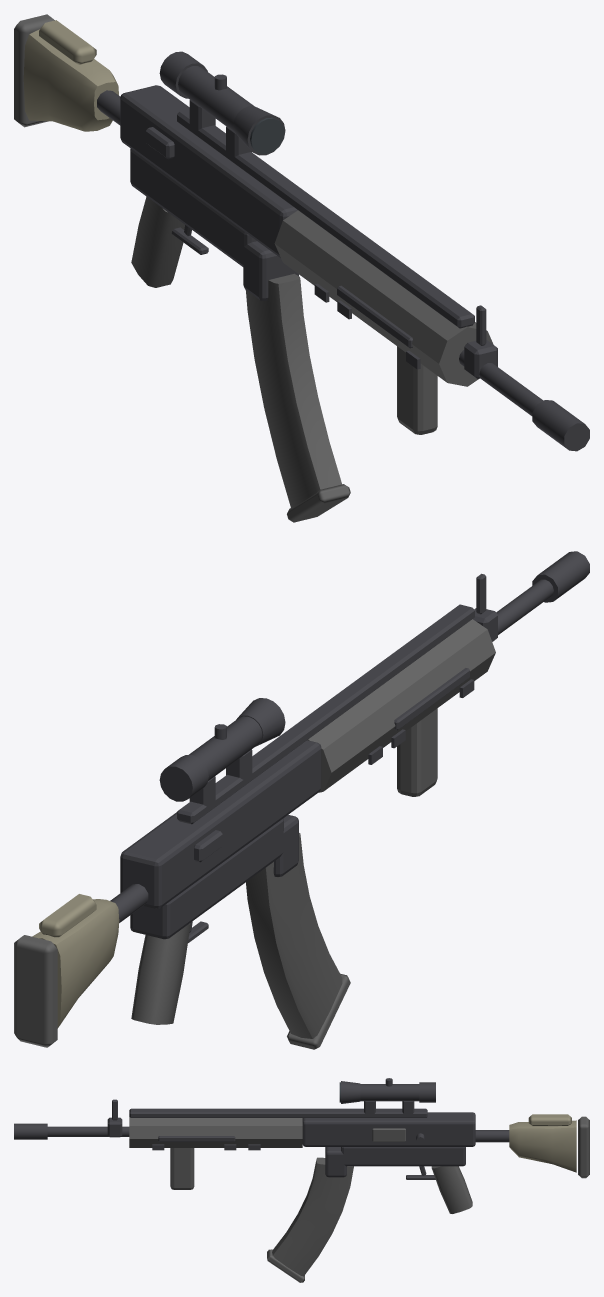
File: rifle.glb
The picture shows the model from 3 angles, top to bottom: view 1: azimuth 30°, elevation 25°; view 2: azimuth 150°, elevation 25°; view 3: azimuth 270°, elevation 25°; orthographic projection. The views are drawn at different scales.
Parts seen in each view (by area): view 1: rifle; view 2: rifle; view 3: rifle.
Boxes of the visible parts, x1,y1,x2,y2 form: rifle: [14, 14, 589, 522]; rifle: [14, 551, 589, 1049]; rifle: [14, 1078, 589, 1282].
Bounding box in the file's own units: 0.084 × 0.4597 × 1.2.
